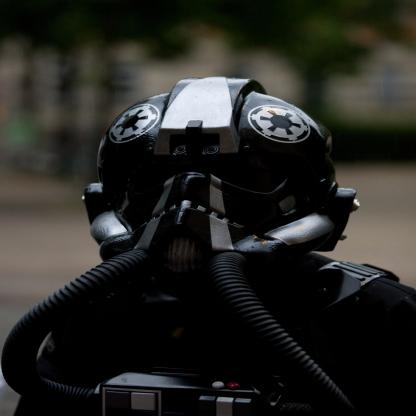Helmet: (90, 78, 363, 258)
